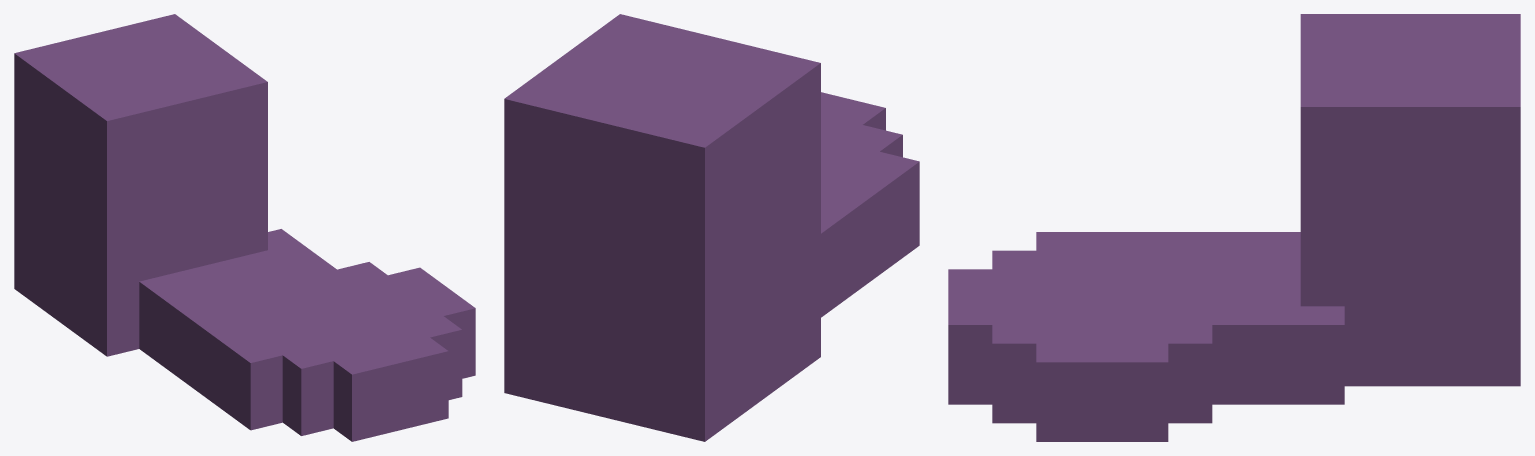
3 views of the same model, side by side, from view 1: azimuth 30°, elevation 25°; view 2: azimuth 150°, elevation 25°; view 3: azimuth 270°, elevation 25° (orthographic). The views are drawn at different scales.
Size of the model in its own units: 0.4 by 0.35 by 0.65.
